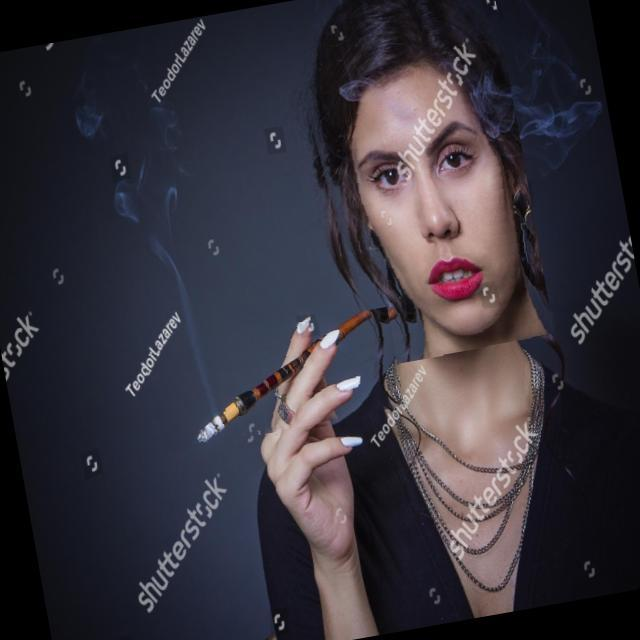cigarette: (140, 306, 406, 454)
